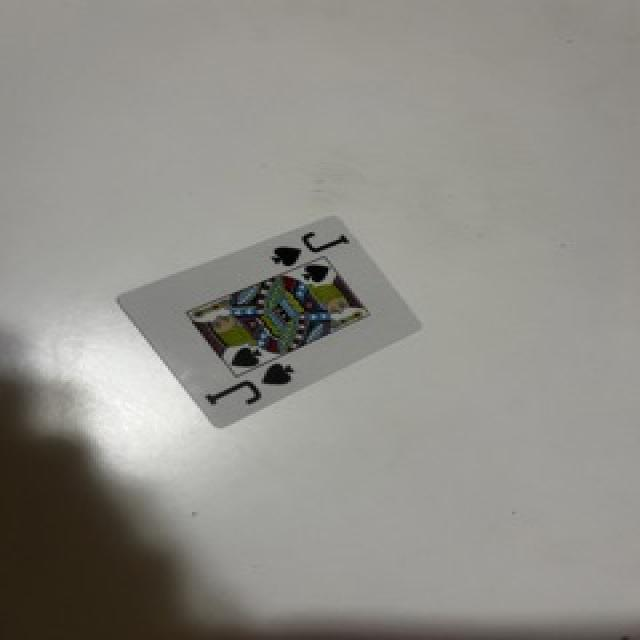Jack of spades: (121, 218, 420, 426)
